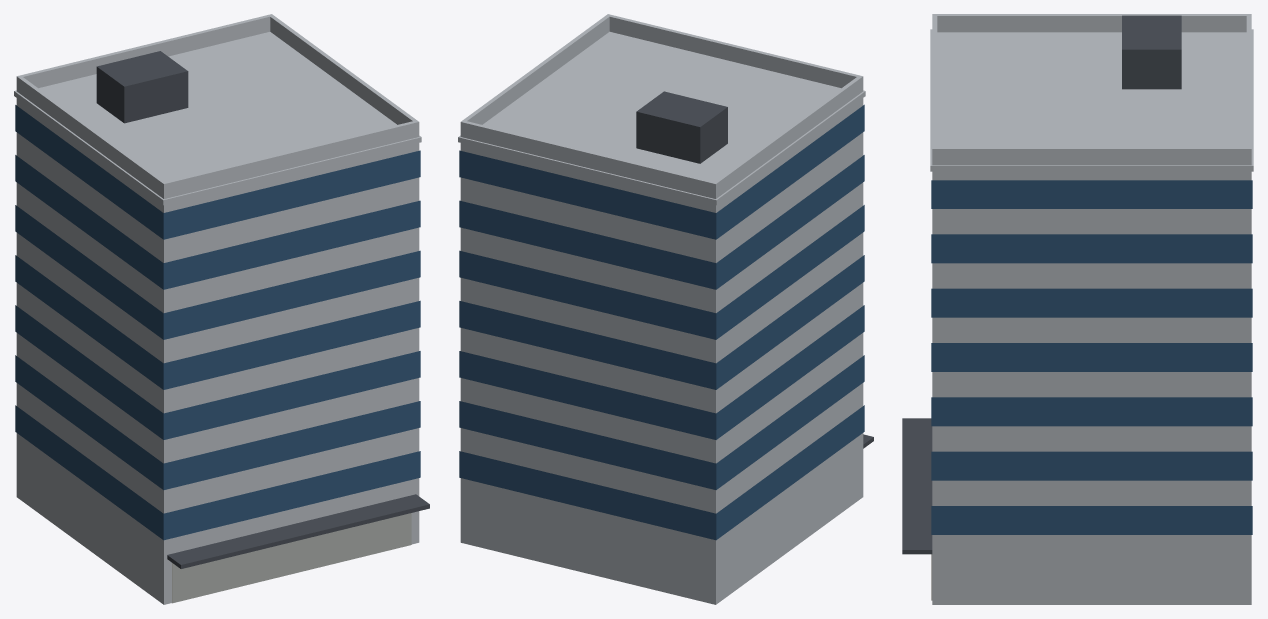
File: bld_dt_office_a.glb
3 renders of one model, left to right at view 1: azimuth 30°, elevation 25°; view 2: azimuth 150°, elevation 25°; view 3: azimuth 270°, elevation 25°, orthographic. The views are drawn at different scales.
Visible parts, largest first — view 1: bld_dt_office_a; view 2: bld_dt_office_a; view 3: bld_dt_office_a.
Part boxes in pixels (<box>): bld_dt_office_a: <box>14,14,429,604</box>; bld_dt_office_a: <box>458,14,873,604</box>; bld_dt_office_a: <box>902,14,1253,604</box>.
Size of what is drawn, in the model's own units: 16.2 by 26.5 by 17.6.
